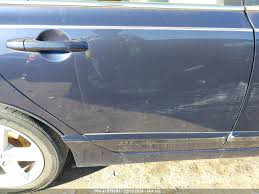doorouter-dent: (2, 9, 240, 136)
